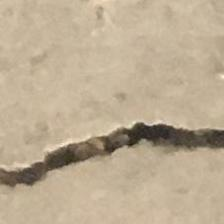Crack: (0, 121, 224, 203)
